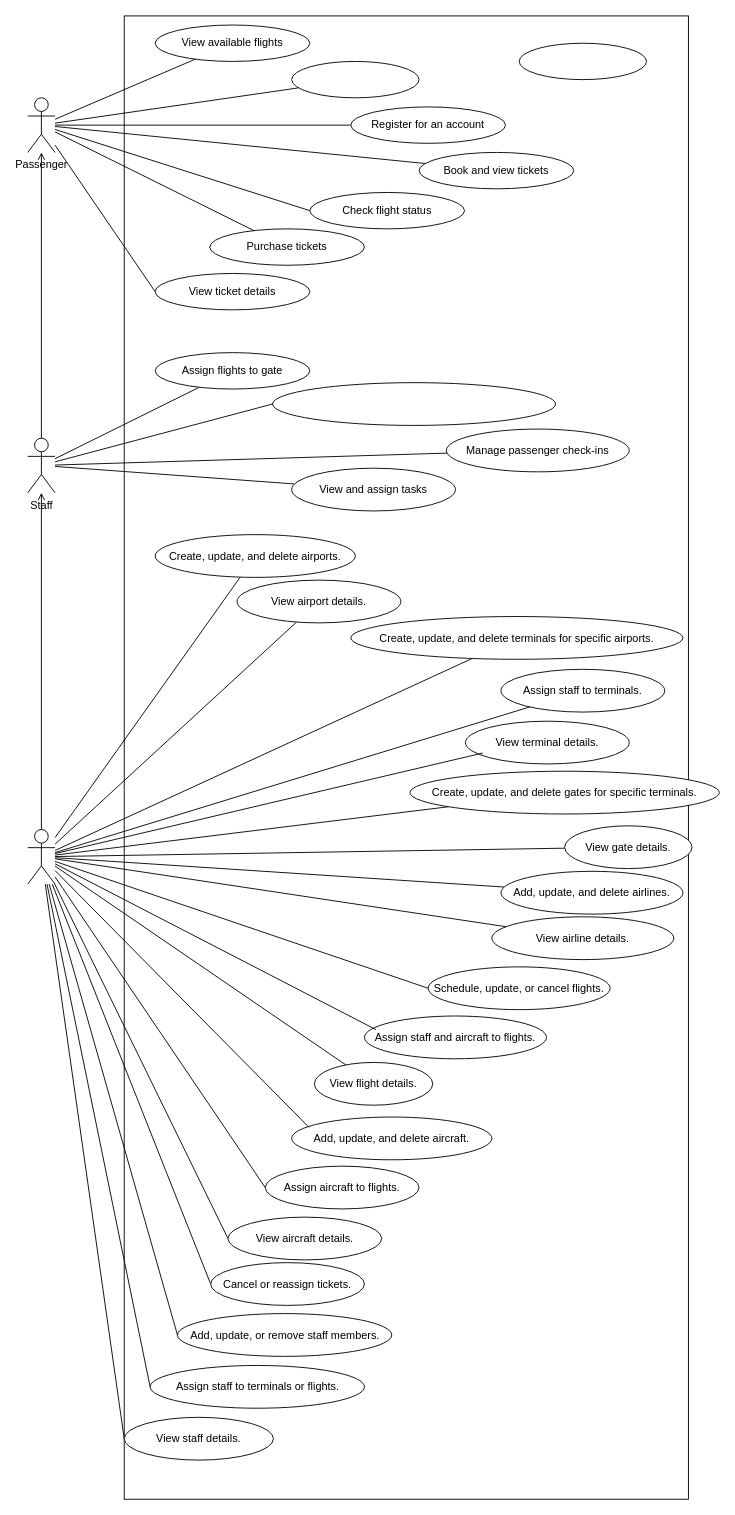
Image size: 735x1515. Some labels were removed from this diagram. The shapes that lost their labels are listed below. From the top down, each one's centre as x and y in pixels, then its label:
[355,79]: Book flights
[582,61]: Authenticate
[414,403]: Update flight status (e.g., "Boarding," "Delayed").
[41,856]: Admin
